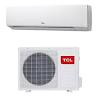ac: (3, 3, 96, 34)
